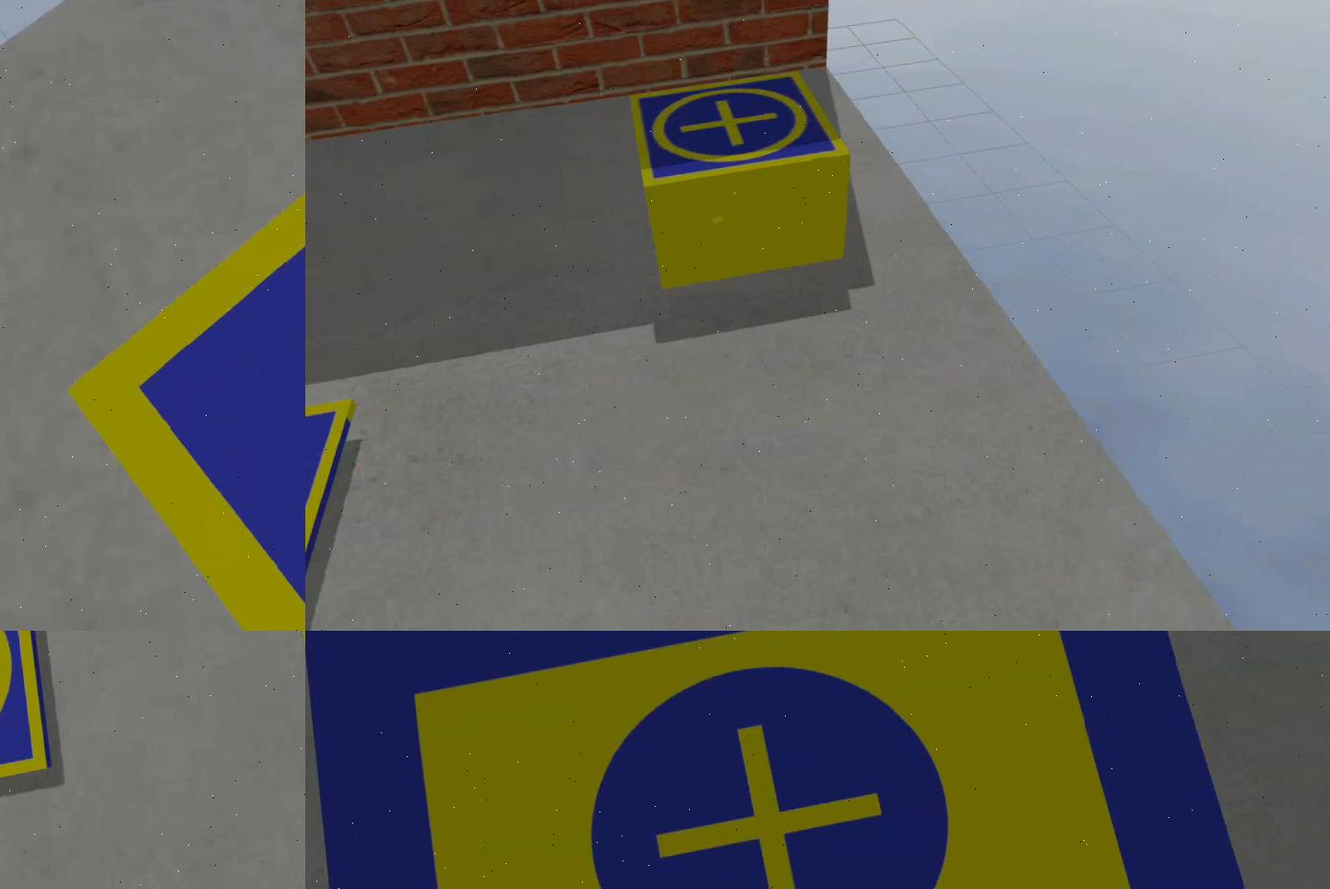large_base: (306, 632, 1302, 889)
small_base: (33, 1, 306, 632), (628, 68, 853, 195), (306, 399, 375, 632)
